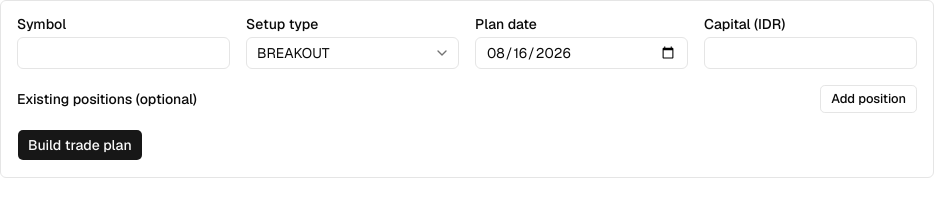
Test: TradePlanForm › shows a validation error and never submits when symbol is blank
The width and height of the screenshot is (951, 217).
Step 1. Type "100000000" into the number field labelled "Capital (IDR)" → [810, 53], box [704, 37, 917, 69]
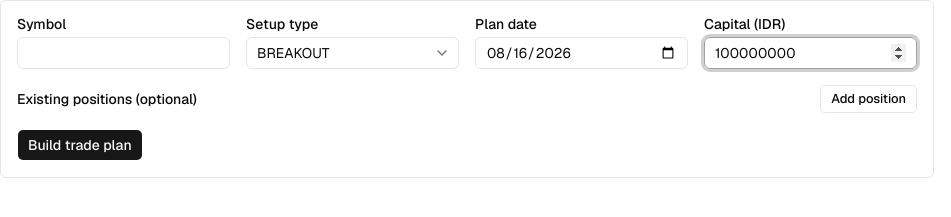
Step 2. Click the button "Build trade plan" → [80, 145], box [17, 129, 143, 161]
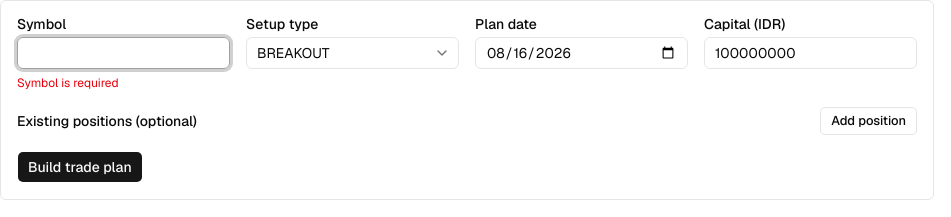
expect the text "Symbol is required" is shown: met, box [17, 75, 119, 91]
